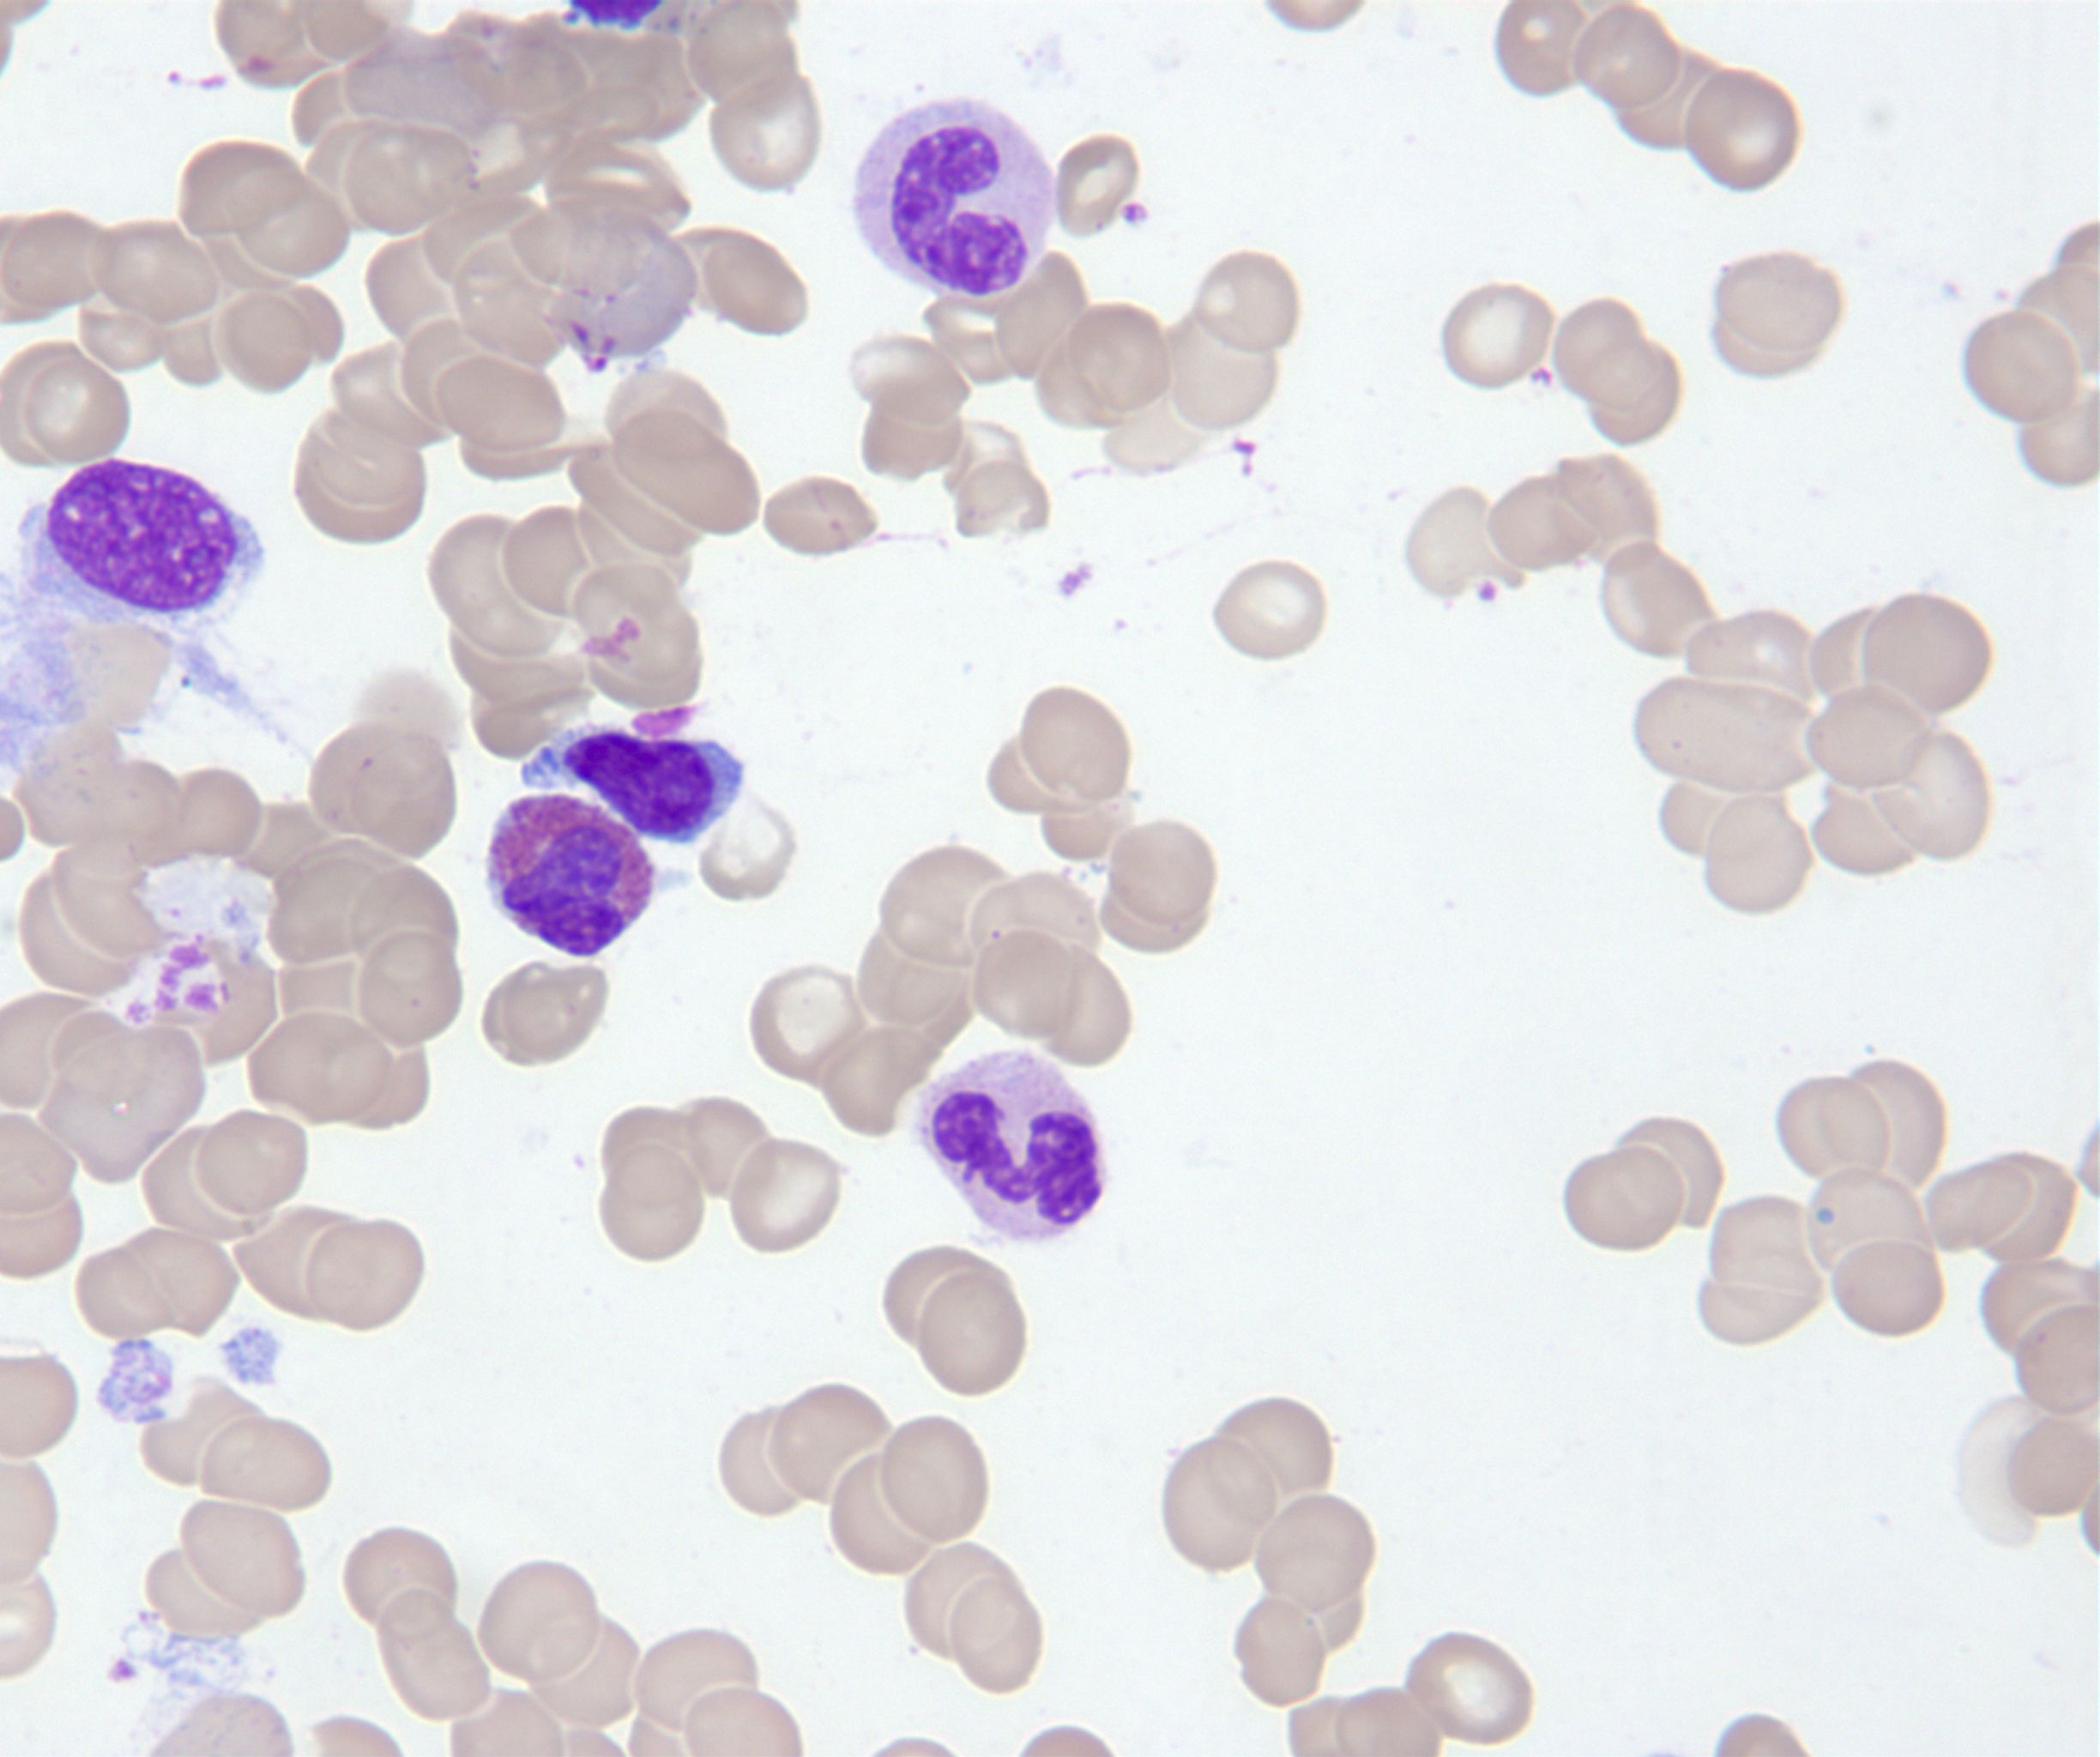32: (523, 721, 743, 843)
5: (856, 101, 1052, 300)
6: (917, 1050, 1108, 1241)
E4: (488, 794, 654, 956)
x: (3, 459, 317, 778)
